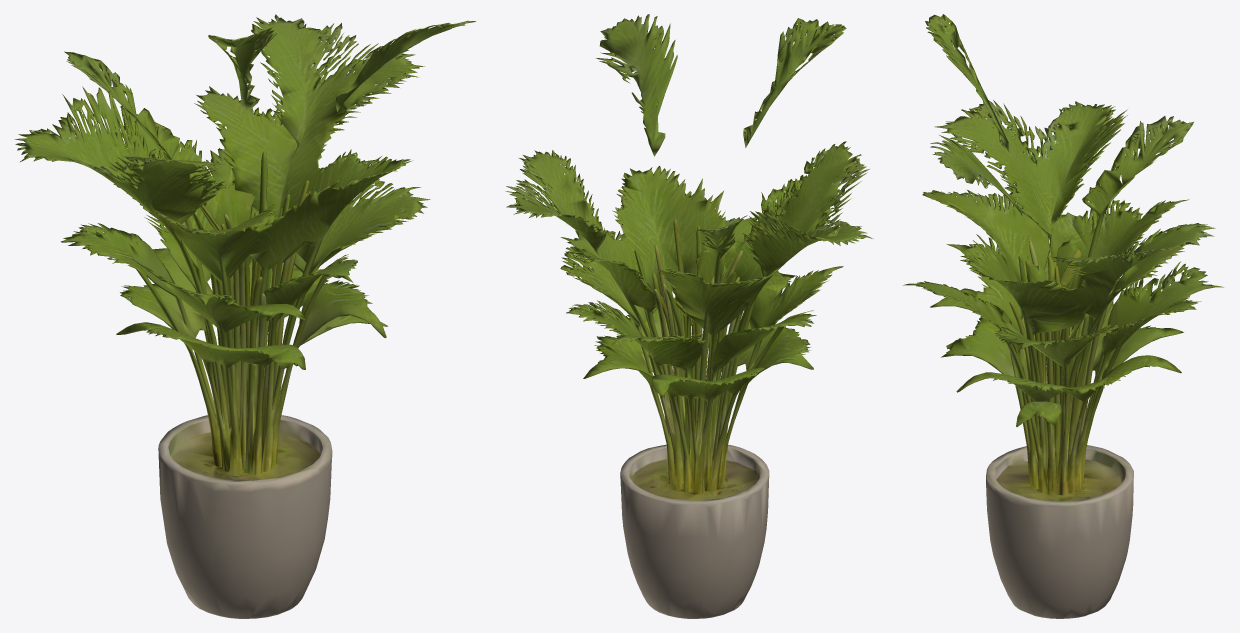
The picture shows the model from 3 angles, left to right: view 1: azimuth 30°, elevation 25°; view 2: azimuth 150°, elevation 25°; view 3: azimuth 270°, elevation 25°; orthographic projection. The views are drawn at different scales.
Parts seen in each view (by area): view 1: material; view 2: material; view 3: material.
Part boxes in pixels (box(x1,y1,x2,y2)): material: box(14, 14, 475, 618); material: box(505, 14, 872, 618); material: box(903, 14, 1223, 618).
Bounding box in the file's own units: 0.702 × 1.06 × 0.5714.
Materials: 1 (1 with a texture image).
